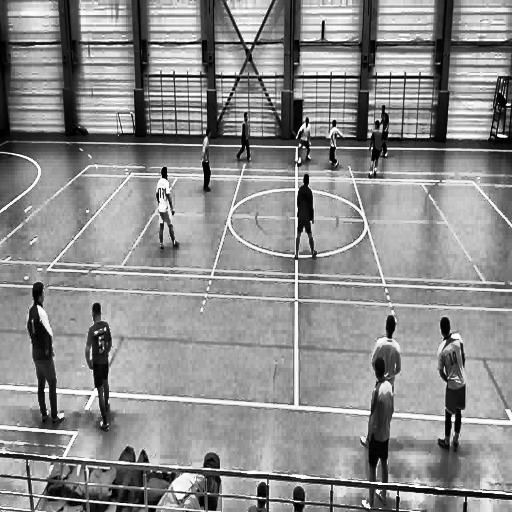ball: (294, 154, 300, 168)
player: (27, 281, 65, 427), (361, 316, 402, 447), (362, 358, 394, 510), (438, 317, 466, 457), (86, 302, 112, 434), (294, 173, 318, 263), (156, 165, 178, 254), (367, 122, 384, 182), (326, 119, 345, 170), (237, 110, 253, 164), (202, 128, 213, 193), (298, 118, 312, 164), (380, 105, 390, 160)
